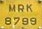character: (8, 3, 16, 12), (21, 16, 29, 25), (26, 2, 33, 12), (17, 3, 24, 12), (4, 16, 11, 25), (13, 16, 20, 25), (30, 16, 37, 25)
